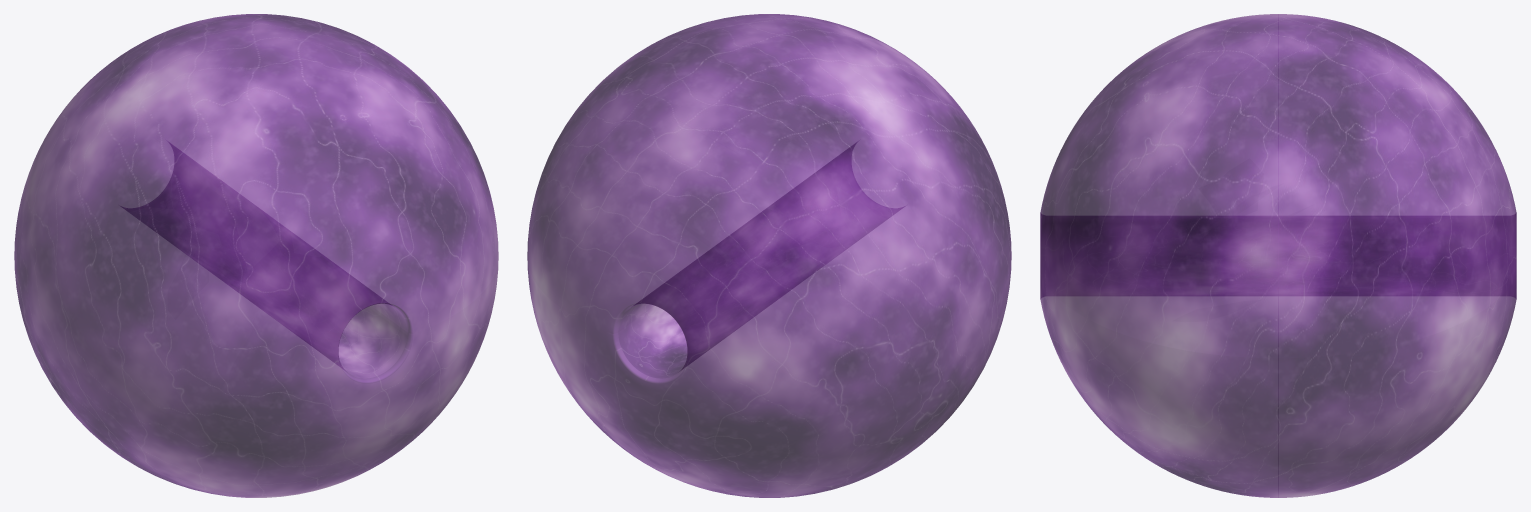
File: amethyst-6mm.glb
3 views of the same model, side by side, from view 1: azimuth 30°, elevation 25°; view 2: azimuth 150°, elevation 25°; view 3: azimuth 270°, elevation 25° (orthographic).
Visible parts, largest first — view 1: amethyst.001; view 2: amethyst.001; view 3: amethyst.001.
Boxes of the visible parts, left/top/right/bottom form: amethyst.001: left=14, top=14, right=498, bottom=497; amethyst.001: left=527, top=14, right=1011, bottom=497; amethyst.001: left=1040, top=14, right=1516, bottom=497.
Bounding box in the file's own units: 0.006 × 0.006 × 0.0059.
2 materials, 1 textured.
